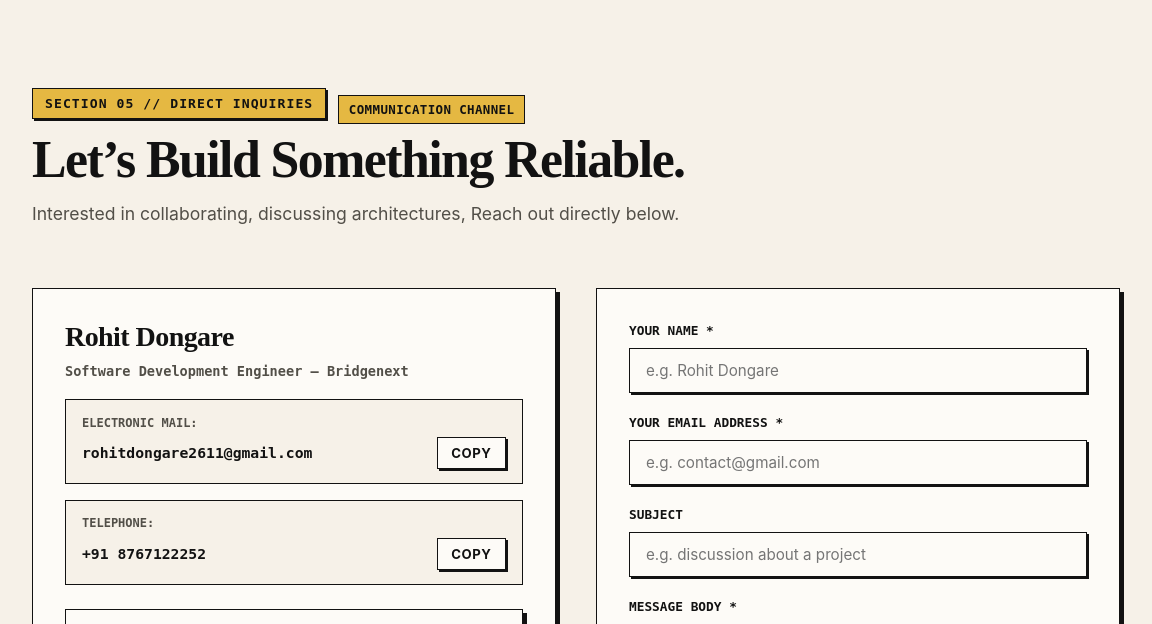
Test: ContactSection › opens a mailto client and clears the form on successful submit
Type "Jane Doe" into the field labelled "Your Name *" at (858, 370), box [629,348,1087,393]
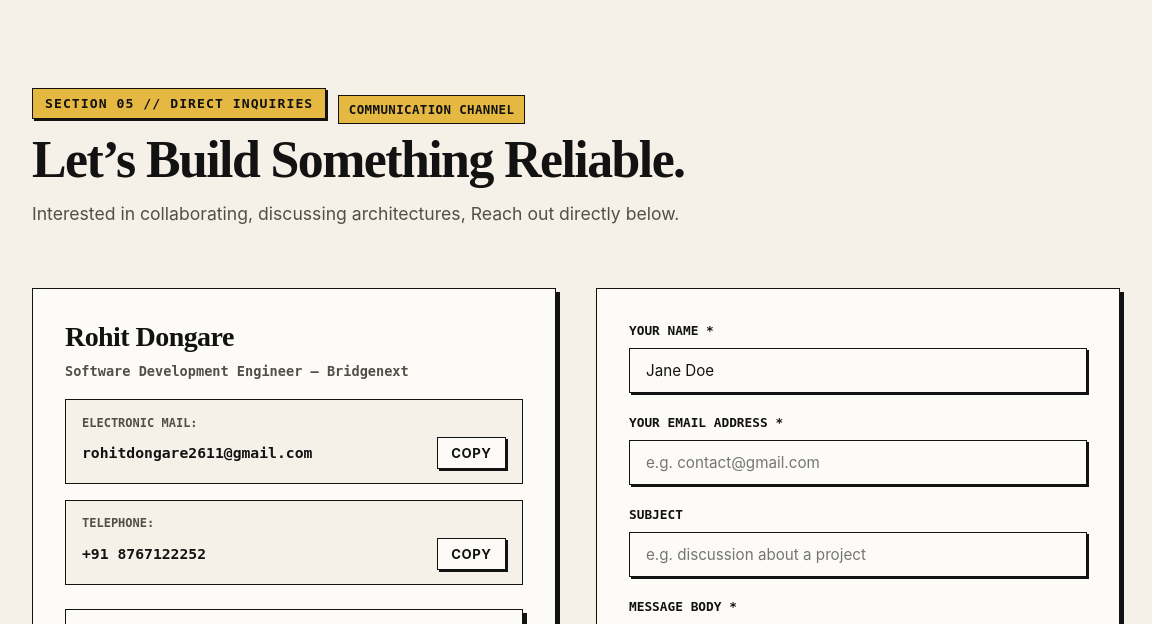
Type "jane@example.com" into the field labelled "Your Email Address *" at (858, 462), box [629,440,1087,485]
(page scrolled)
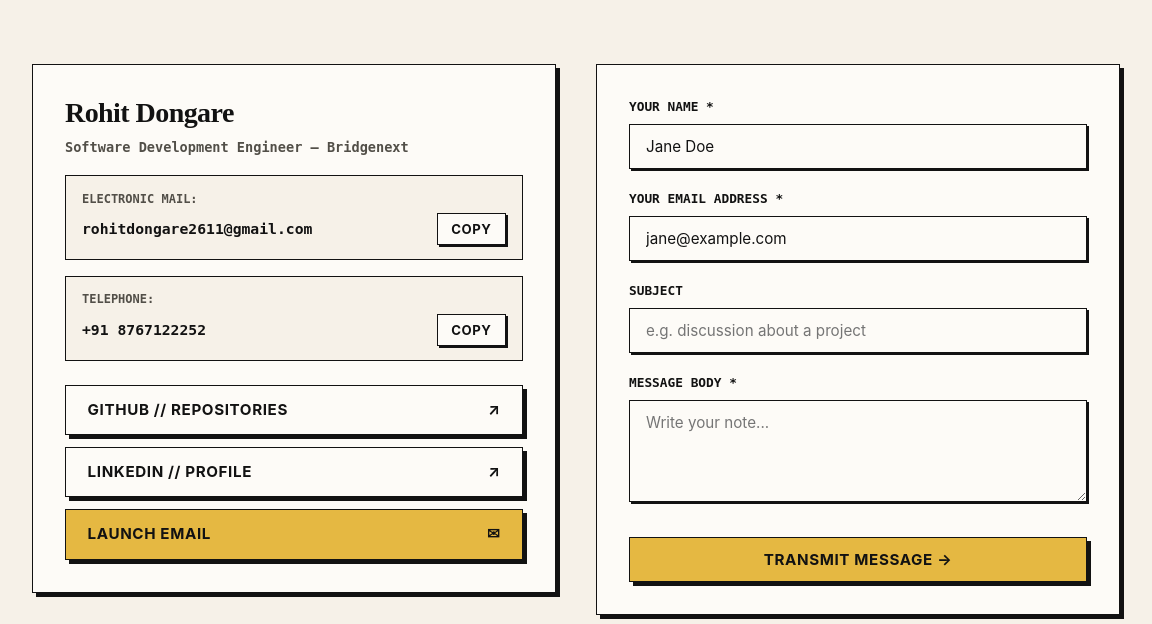
Type "Hello from the test suite." into the text box labelled "Message Body *" at (858, 451), box [629,400,1087,502]
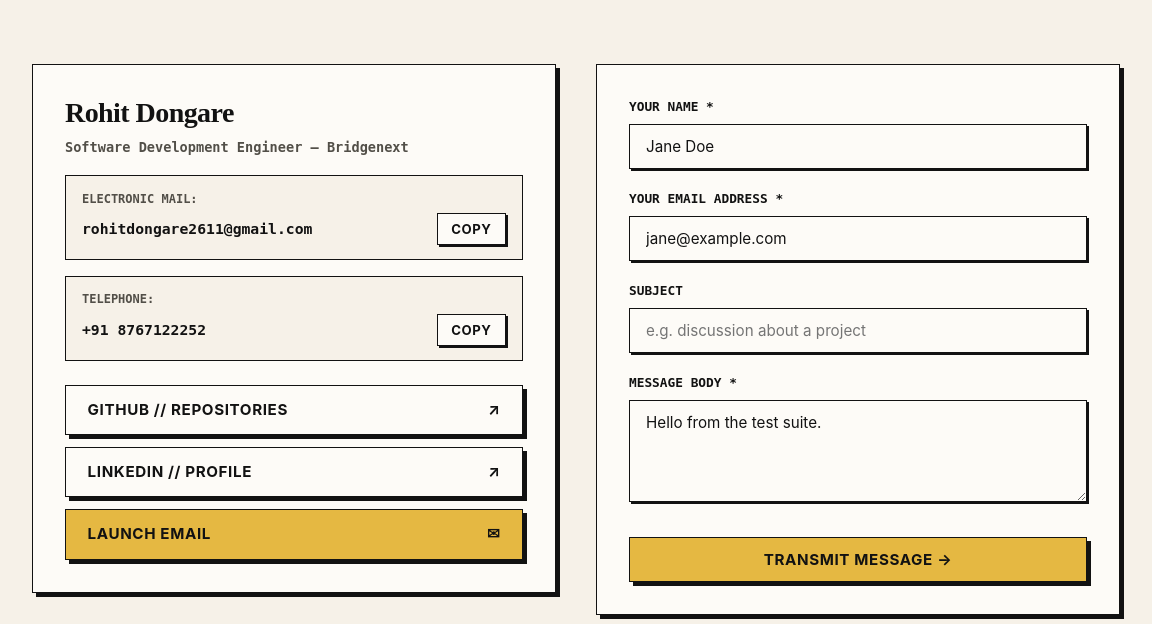
Submit the form, box [629,97,1087,582]
Wait 400 ms
(page scrolled)
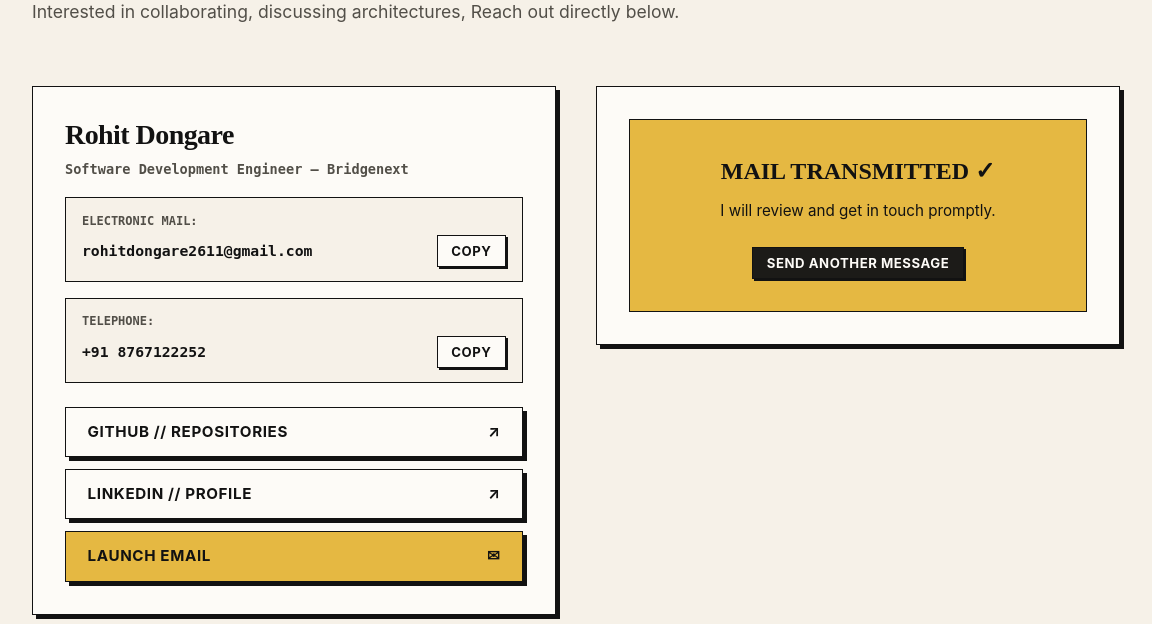
Expected: the text "MAIL TRANSMITTED ✓" is shown, [721,158,995,184]
